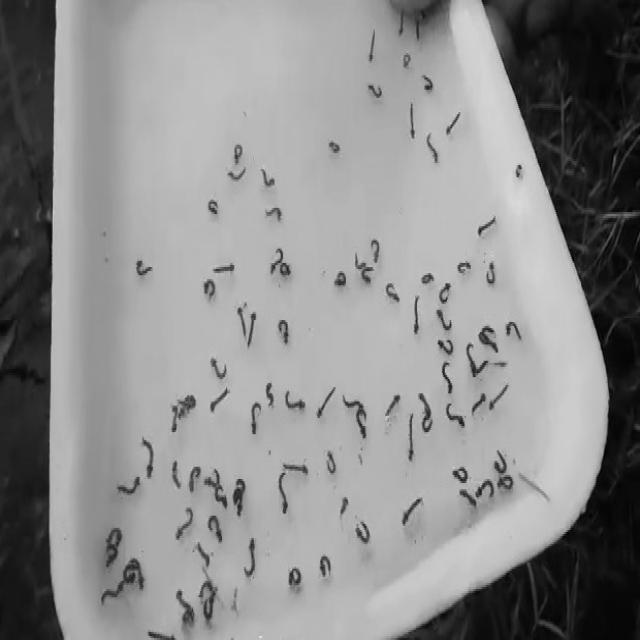larvas: (317, 388, 336, 418), (418, 394, 433, 432), (176, 508, 193, 540), (403, 497, 421, 525), (211, 386, 229, 412), (490, 383, 508, 409), (129, 559, 145, 588), (102, 582, 123, 604), (447, 403, 465, 428), (177, 592, 194, 618), (478, 215, 496, 237), (116, 477, 140, 493), (143, 439, 153, 477), (343, 394, 365, 411), (426, 133, 438, 164), (244, 539, 254, 576), (279, 472, 288, 513), (208, 516, 222, 542), (251, 403, 262, 436), (442, 361, 453, 394), (356, 520, 371, 544), (270, 249, 284, 274), (481, 332, 498, 352), (105, 542, 118, 567), (476, 480, 494, 498), (506, 322, 523, 341), (211, 358, 227, 378), (446, 113, 461, 134), (437, 309, 452, 330), (204, 593, 216, 619), (286, 392, 304, 409), (494, 450, 507, 473), (248, 311, 256, 348), (386, 396, 400, 417), (408, 412, 414, 461), (460, 491, 477, 508), (204, 468, 220, 486), (198, 542, 210, 566), (214, 486, 227, 507), (198, 581, 215, 597), (233, 485, 242, 515), (148, 630, 175, 640), (386, 283, 400, 302), (288, 567, 302, 586), (284, 462, 308, 473), (106, 528, 122, 544), (452, 466, 468, 482), (438, 338, 454, 354), (190, 468, 201, 491), (264, 207, 282, 221), (357, 410, 366, 438), (439, 283, 451, 304), (472, 395, 486, 413), (279, 318, 289, 343), (204, 281, 216, 301), (319, 557, 331, 577), (479, 326, 494, 342), (228, 167, 246, 180), (414, 295, 420, 334), (238, 308, 246, 337), (466, 343, 474, 372), (261, 169, 275, 185), (355, 252, 367, 270), (172, 461, 180, 488), (123, 566, 135, 584), (369, 30, 376, 60), (473, 360, 487, 375), (177, 400, 188, 419), (362, 267, 374, 284), (327, 452, 336, 473), (422, 75, 433, 92), (498, 477, 512, 490), (410, 104, 415, 140), (371, 241, 379, 263), (266, 384, 274, 406), (458, 261, 471, 274), (172, 405, 178, 433), (138, 262, 152, 274), (280, 261, 291, 276), (335, 271, 346, 286), (185, 396, 196, 411), (340, 497, 348, 517), (369, 86, 382, 98), (237, 478, 246, 495), (208, 200, 218, 214), (414, 20, 421, 40), (235, 144, 242, 162), (182, 610, 191, 624), (330, 141, 340, 153), (214, 266, 234, 272), (488, 264, 494, 284), (421, 274, 434, 283), (399, 12, 404, 34), (404, 53, 411, 67)
